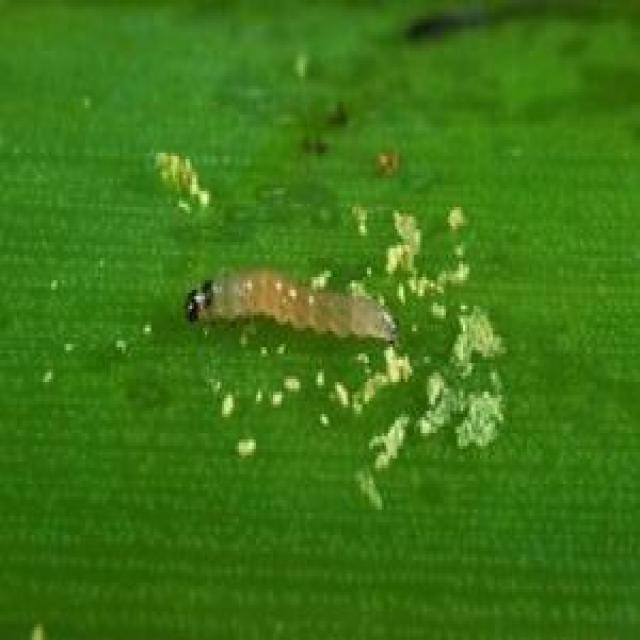cornborer-Larva-: (178, 264, 413, 369)
